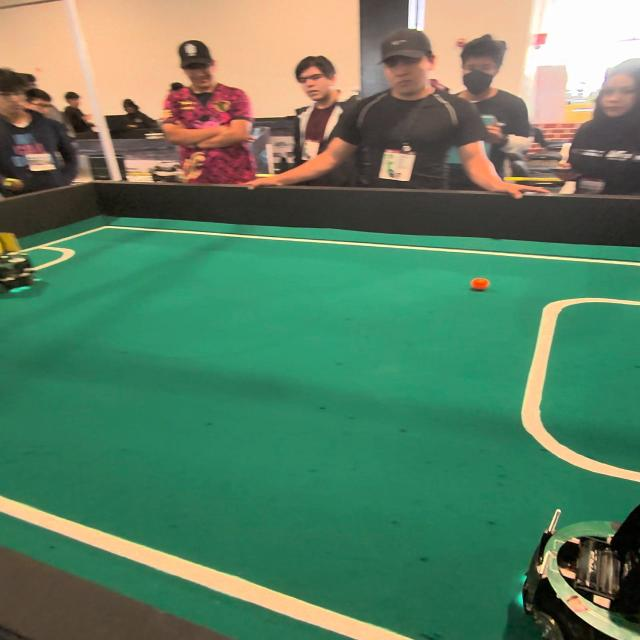Robot: (552, 461, 640, 640), (0, 226, 36, 304)
pelota: (460, 272, 497, 300)
